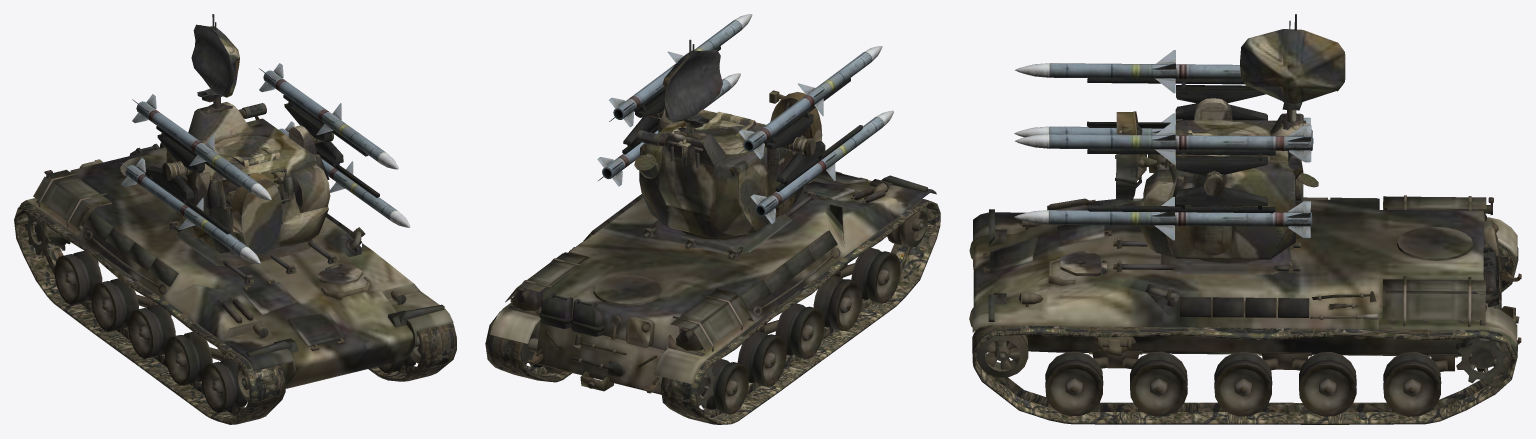
File: missileVehicle.glb
The picture shows the model from 3 angles, left to right: view 1: azimuth 30°, elevation 25°; view 2: azimuth 150°, elevation 25°; view 3: azimuth 270°, elevation 25°; orthographic projection. The views are drawn at different scales.
Parts seen in each view (by area): view 1: Body, Turret, Missile; view 2: Body, Turret, Missile; view 3: Body, Turret, Missile.
Part boxes in pixels (x1=…): Body: x1=14, y1=142, x2=456, y2=424; Turret: x1=145, y1=14, x2=406, y2=337; Missile: x1=121, y1=63, x2=410, y2=263; Body: x1=485, y1=170, x2=940, y2=424; Turret: x1=622, y1=39, x2=888, y2=259; Missile: x1=597, y1=14, x2=893, y2=223; Body: x1=969, y1=195, x2=1521, y2=424; Turret: x1=1019, y1=14, x2=1345, y2=303; Missile: x1=1014, y1=50, x2=1313, y2=240.
Bounding box in the file's own units: 1.24 × 1.77 × 2.5.
Materials: 3 (3 with a texture image).
